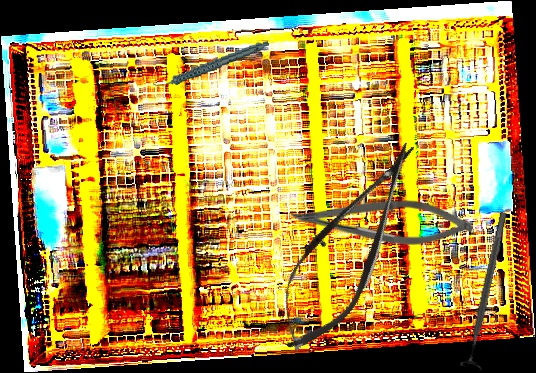Fixation Ring: (458, 210, 517, 371)
Handpiece: (149, 40, 273, 89)
Micro Scissor: (255, 125, 442, 366), (289, 200, 474, 245)
